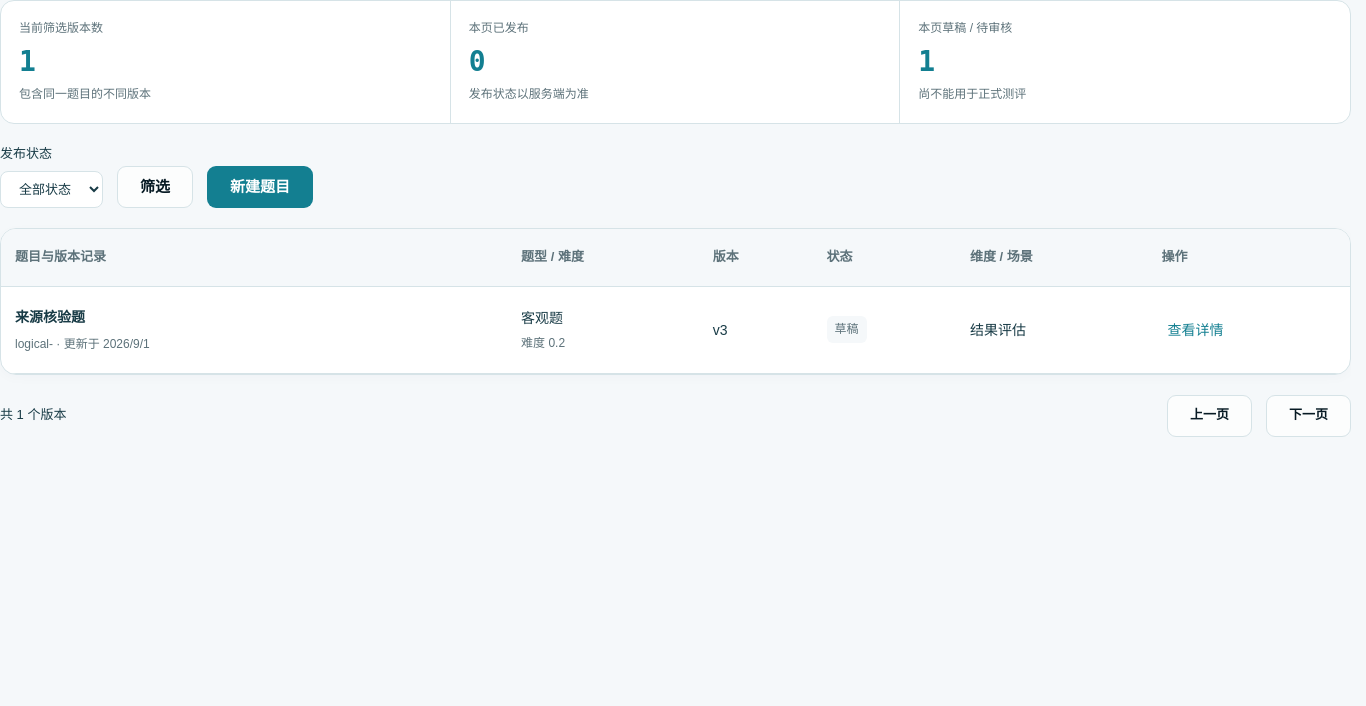
Scenario: content version library › opens a successor editor and saves only a draft before showing its detail
Click the button "查看详情" at (1196, 330), box x1=1162 y1=318 x2=1230 y2=342
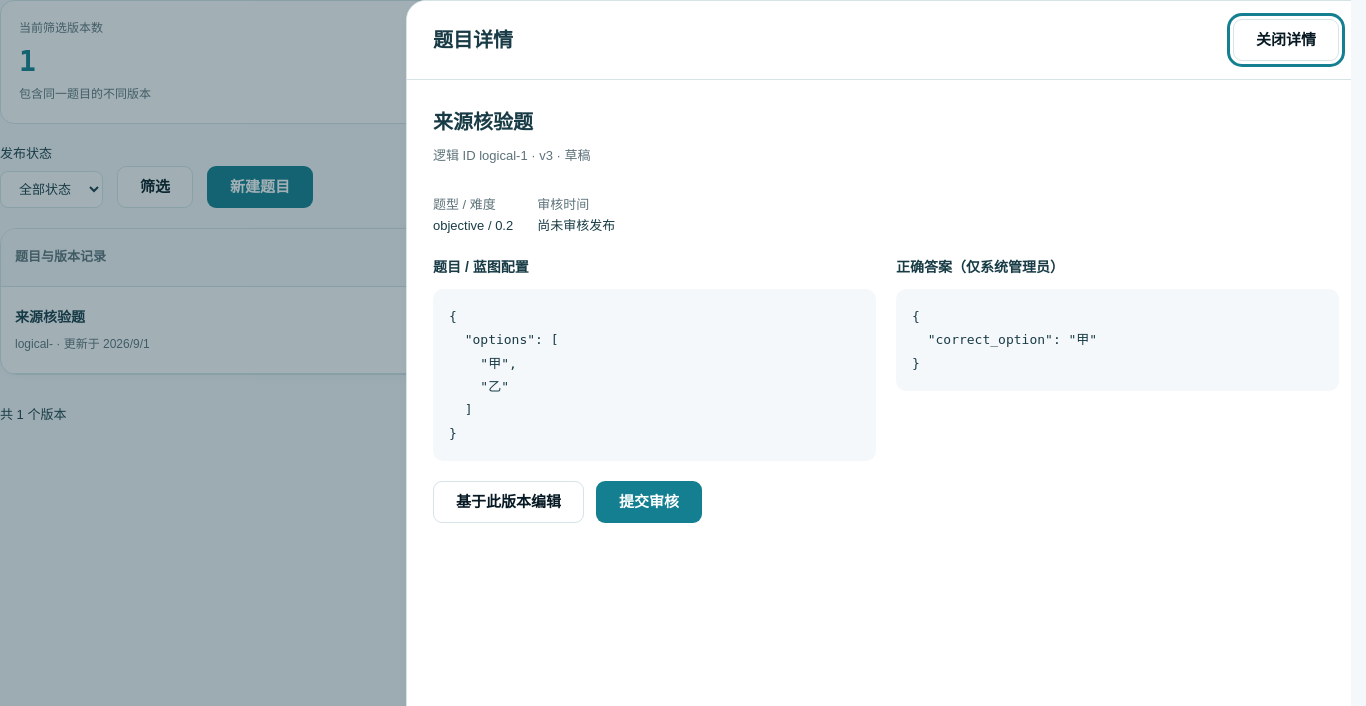
Click the button with test id "edit-item" at (508, 502), box x1=433 y1=481 x2=584 y2=523
(page scrolled)
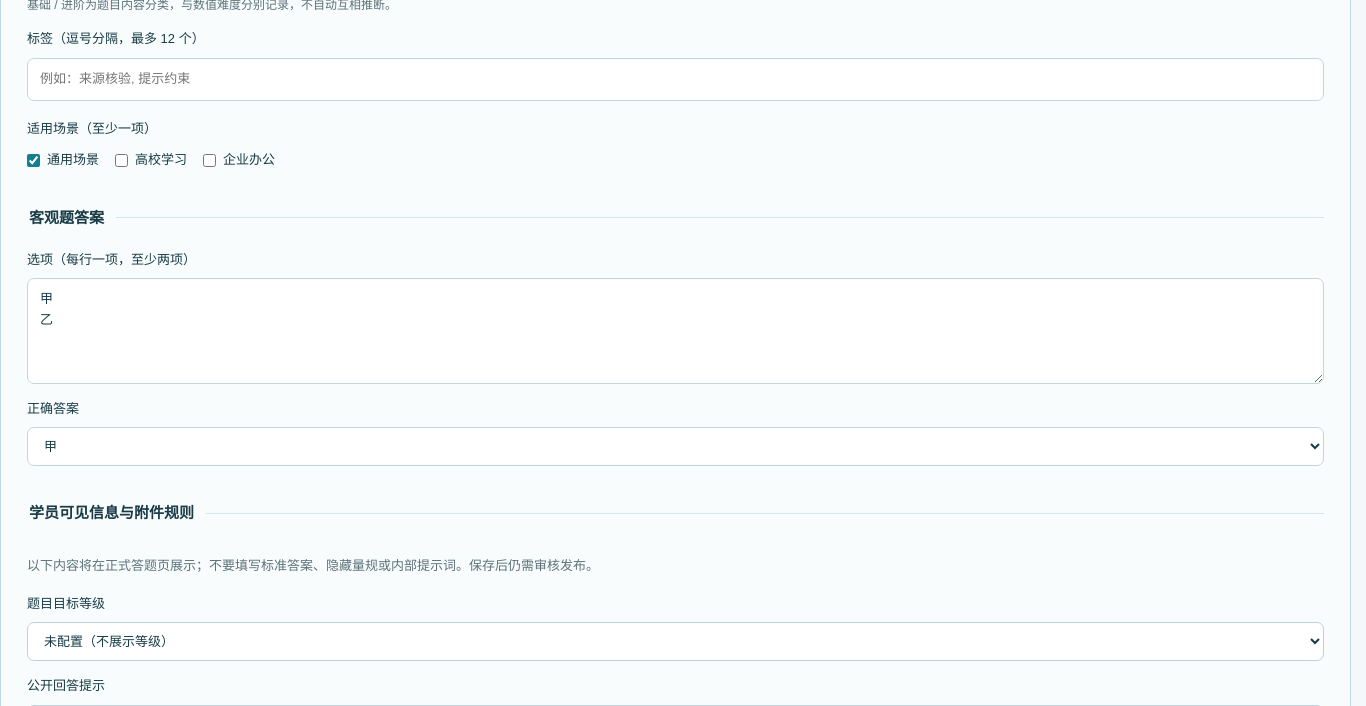
Submit the form
(page scrolled)
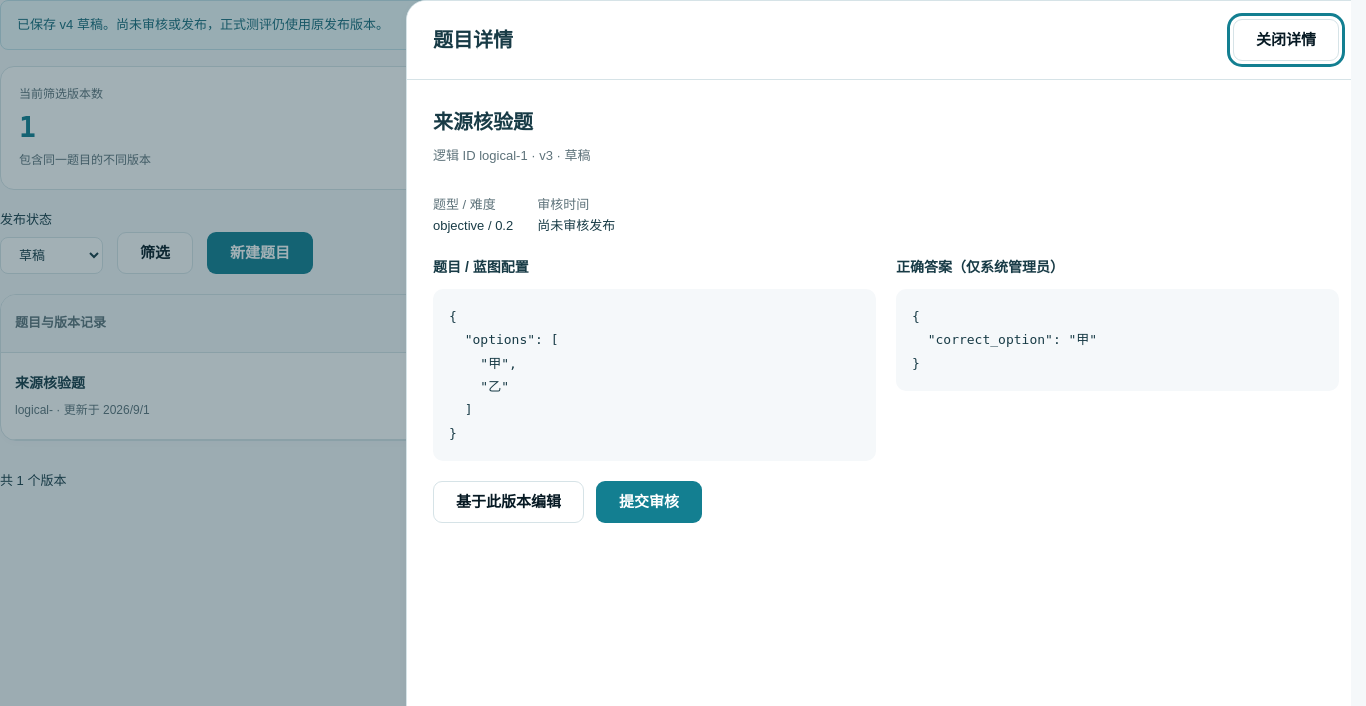
Expected: the text "已保存 v4 草稿" is shown, x1=17 y1=17 x2=389 y2=32
